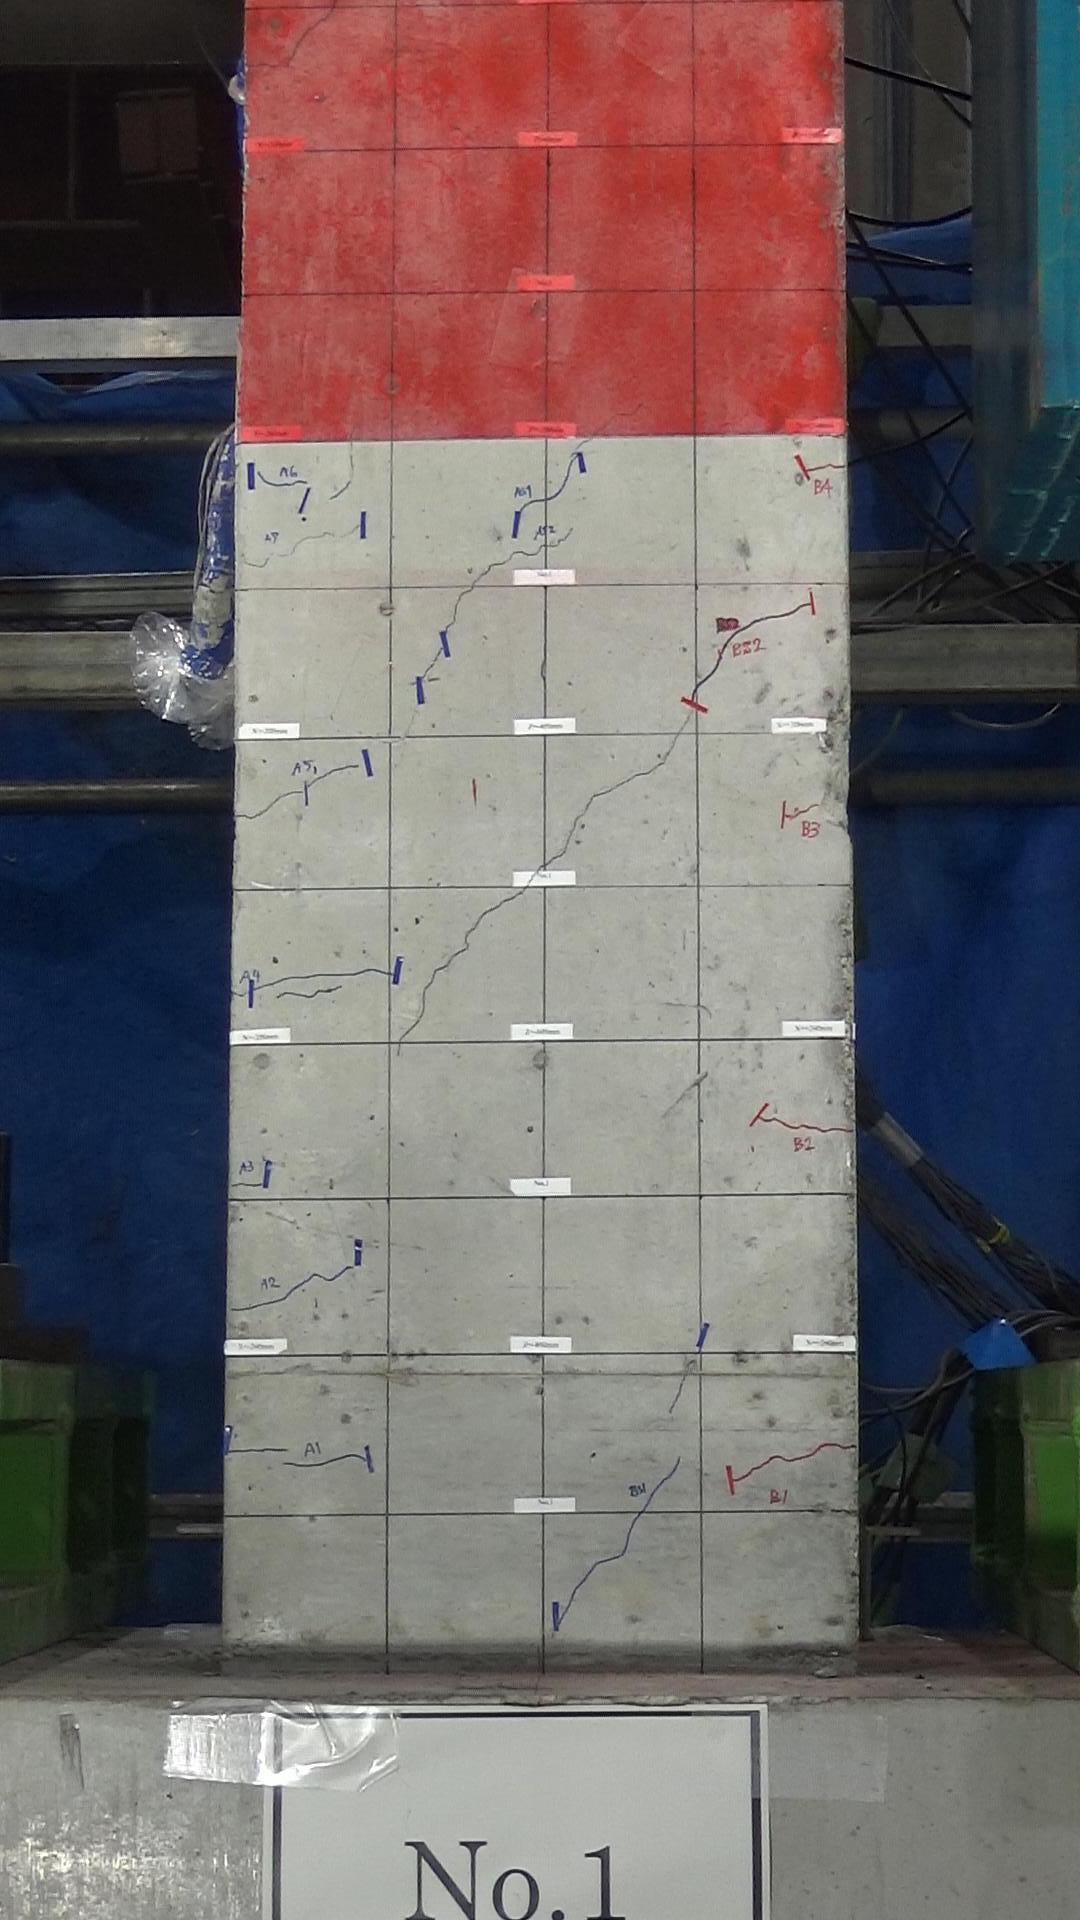Flexure Crack: (760, 1113, 856, 1139), (729, 1458, 795, 1484), (284, 1455, 371, 1472), (793, 1439, 857, 1461), (301, 765, 361, 787), (280, 1279, 313, 1307), (310, 1265, 353, 1284), (255, 476, 309, 491), (345, 965, 400, 980), (225, 1445, 290, 1457), (795, 459, 848, 473), (251, 977, 301, 990), (265, 789, 305, 804), (297, 971, 349, 982), (229, 1302, 280, 1313), (233, 806, 270, 822), (785, 806, 822, 822), (274, 988, 316, 1001), (307, 986, 344, 1000), (295, 531, 336, 543), (229, 1180, 268, 1192), (239, 556, 274, 568), (334, 524, 363, 537), (272, 549, 298, 559)
Shear Crack: (413, 645, 447, 698), (517, 543, 564, 563), (489, 891, 526, 914), (514, 497, 549, 521), (554, 1594, 578, 1629), (396, 1019, 417, 1055), (570, 1569, 593, 1600), (781, 601, 814, 622), (324, 479, 353, 502), (721, 629, 746, 655), (589, 781, 621, 800), (654, 1462, 676, 1490), (467, 911, 493, 934), (531, 855, 566, 872), (688, 675, 709, 703), (742, 613, 782, 628), (585, 1553, 626, 1567), (469, 566, 495, 587), (574, 800, 595, 825), (670, 723, 688, 750), (436, 952, 459, 975), (560, 825, 579, 852), (653, 749, 675, 770), (446, 608, 460, 640), (618, 1532, 634, 1561), (493, 554, 517, 572), (680, 1356, 696, 1383), (417, 992, 430, 1025), (620, 771, 653, 785), (708, 654, 725, 679), (628, 1510, 645, 1535), (669, 1386, 683, 1415), (641, 1487, 657, 1514), (564, 458, 580, 483), (550, 483, 568, 504), (456, 934, 475, 955), (683, 698, 698, 724), (426, 971, 440, 996), (458, 587, 473, 608)
